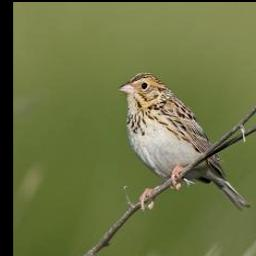Sparrow: (120, 70, 252, 210)
